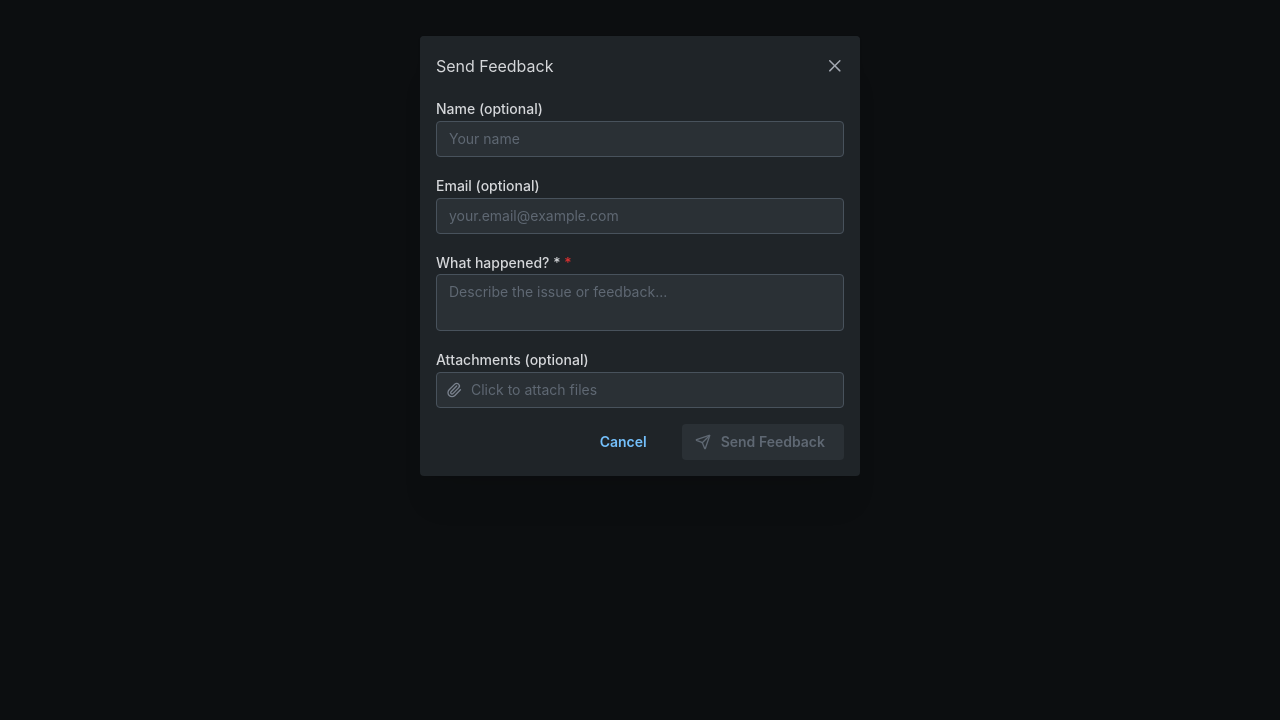
Test: FeedbackModal › error handling › shows error alert when Sentry is not configured
# Fill in message
Type "Test feedback" into the text box with placeholder "Describe the issue or feedback...".
click(640, 303); type("Test feedback")  # box [436,274,844,331]
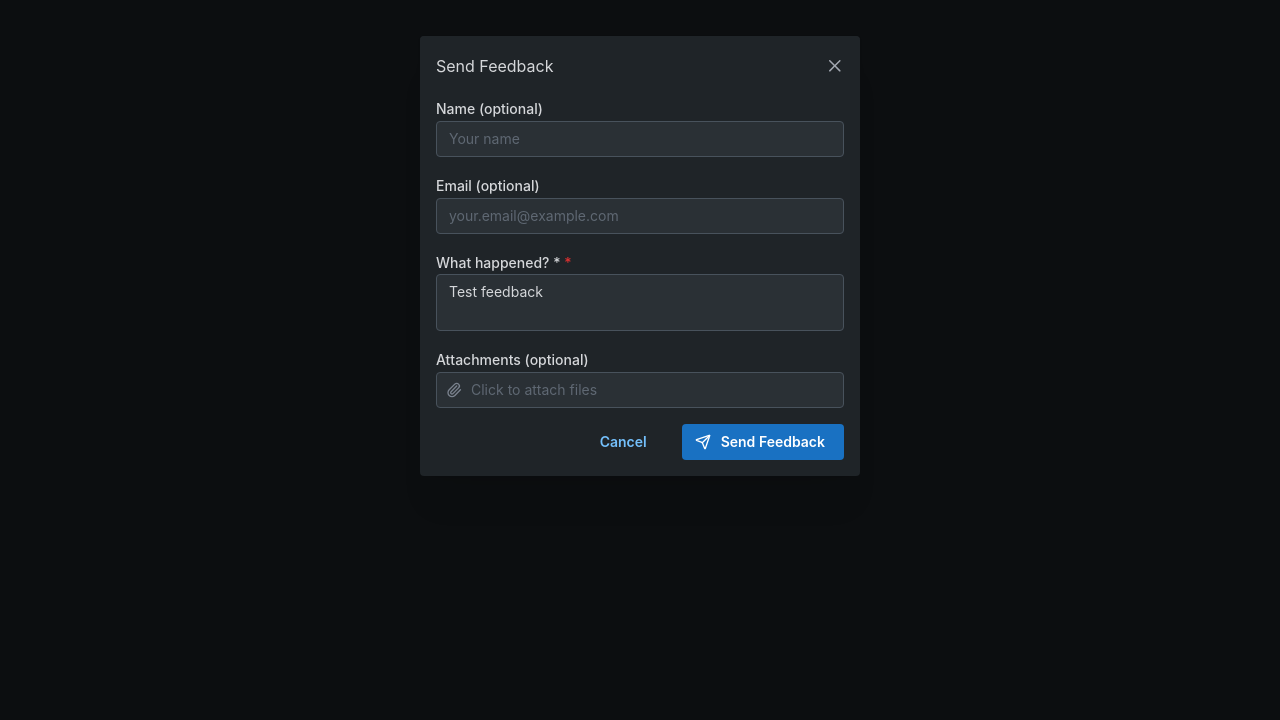
# Click submit
Click the button "Send Feedback".
click(763, 442)  # box [682,424,844,460]
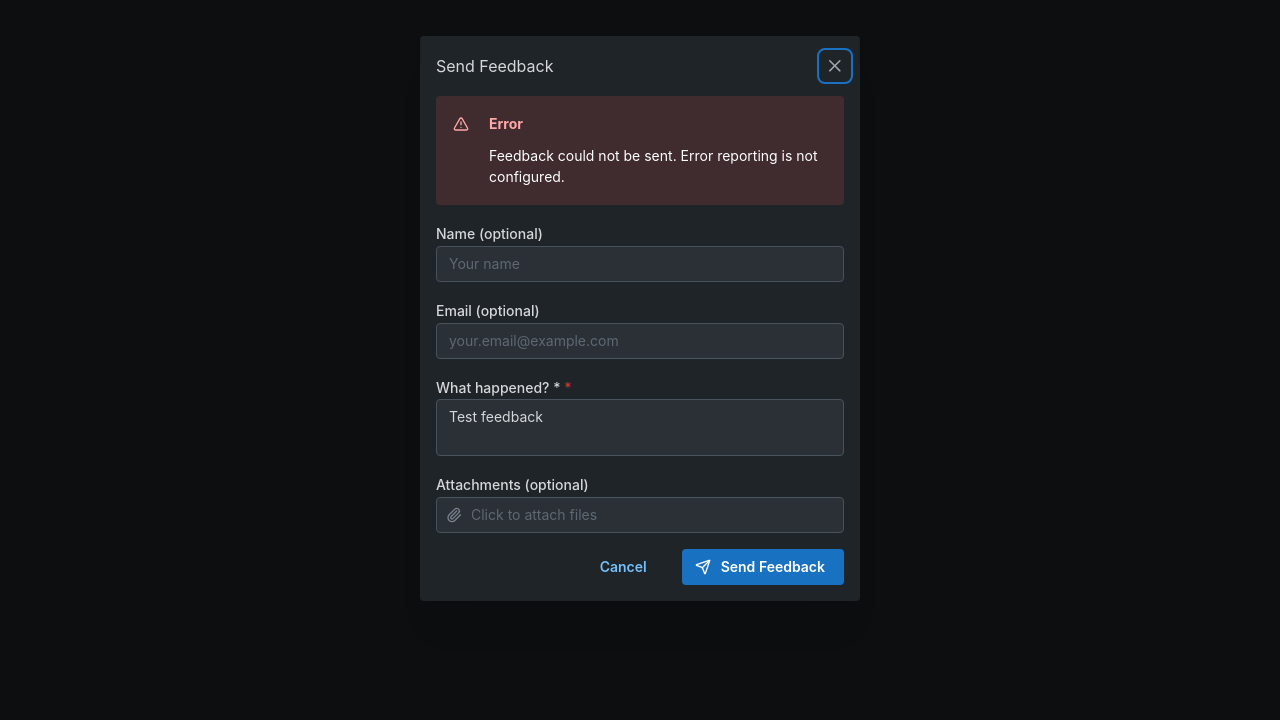
Now the message "Error Feedback could not be sent. Error reporting is not configured." is shown, box [436,96,844,205]
Now the text "Error reporting is not configured" is shown, box [489,147,818,185]
